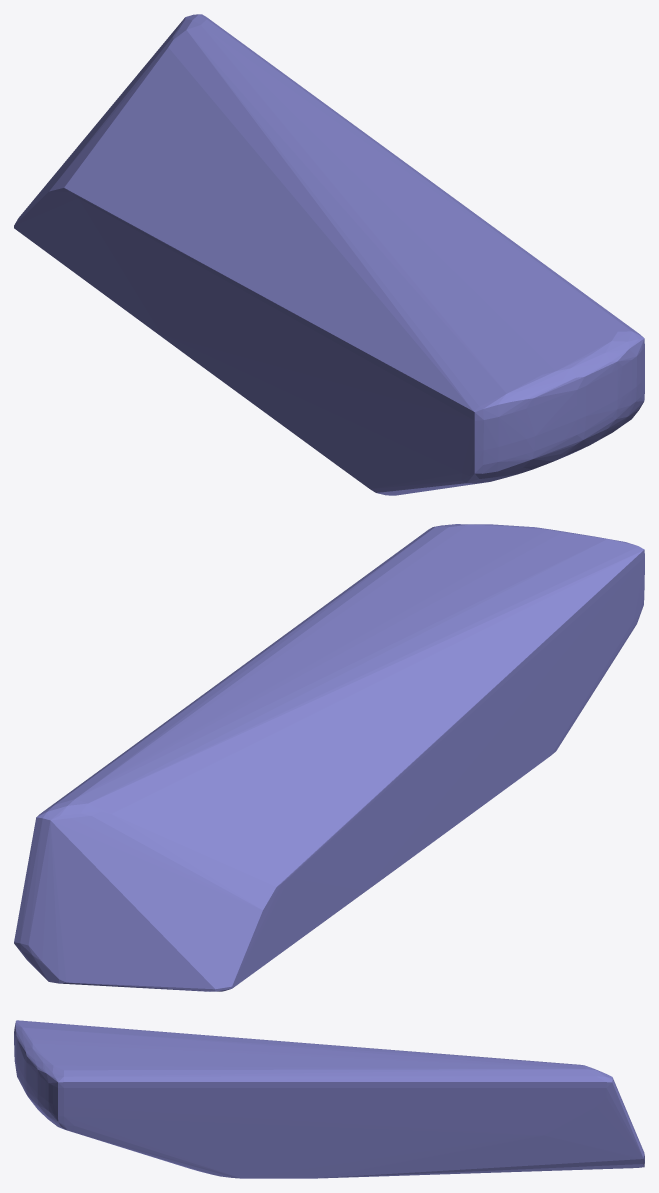
Rendered from left-hip-yaw-0_part_12.obj.
The picture shows the model from 3 angles, top to bottom: view 1: azimuth 30°, elevation 25°; view 2: azimuth 150°, elevation 25°; view 3: azimuth 270°, elevation 25°; orthographic projection. The views are drawn at different scales.
Bounding box in the file's own units: 0.0275 × 0.0221 × 0.1176.
